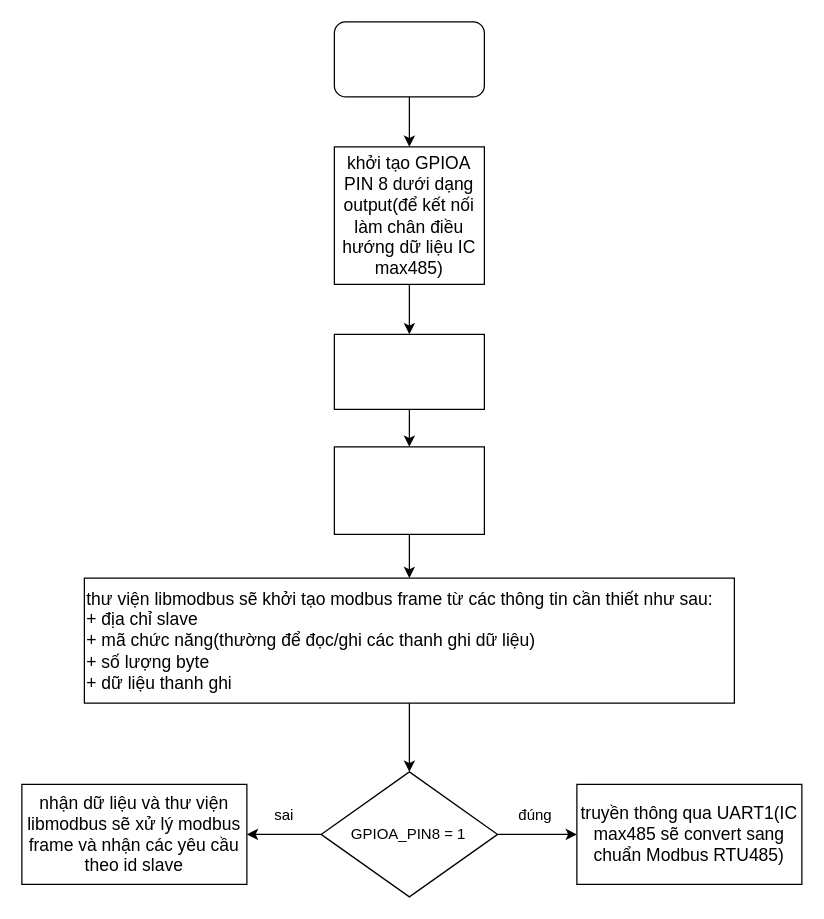
Some shapes in this 824 by 919 pixel diagram are drawn without their labels. Here are the shapes that lost their labels. From the top down, the centre of each, then its label:
At (x=408, y=59): "start".
At (x=408, y=371): "khởi tạo UART1, thiết lập các thông số".
At (x=408, y=490): "sử dụng thư viện libmodbus để khởi tạo các thanh ghi dữ liệu ảo".
